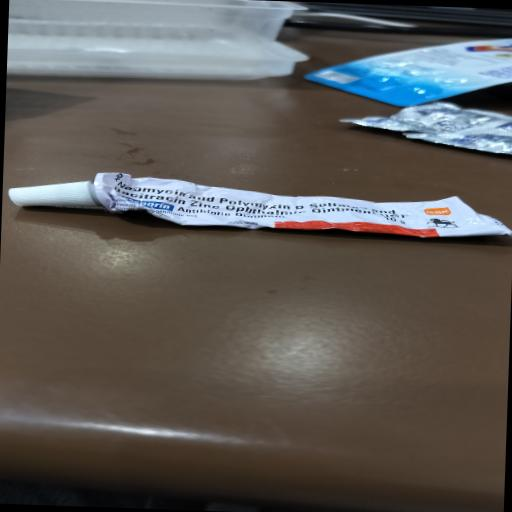medicine: (0, 157, 512, 255)
neomycin: (103, 174, 425, 230)
